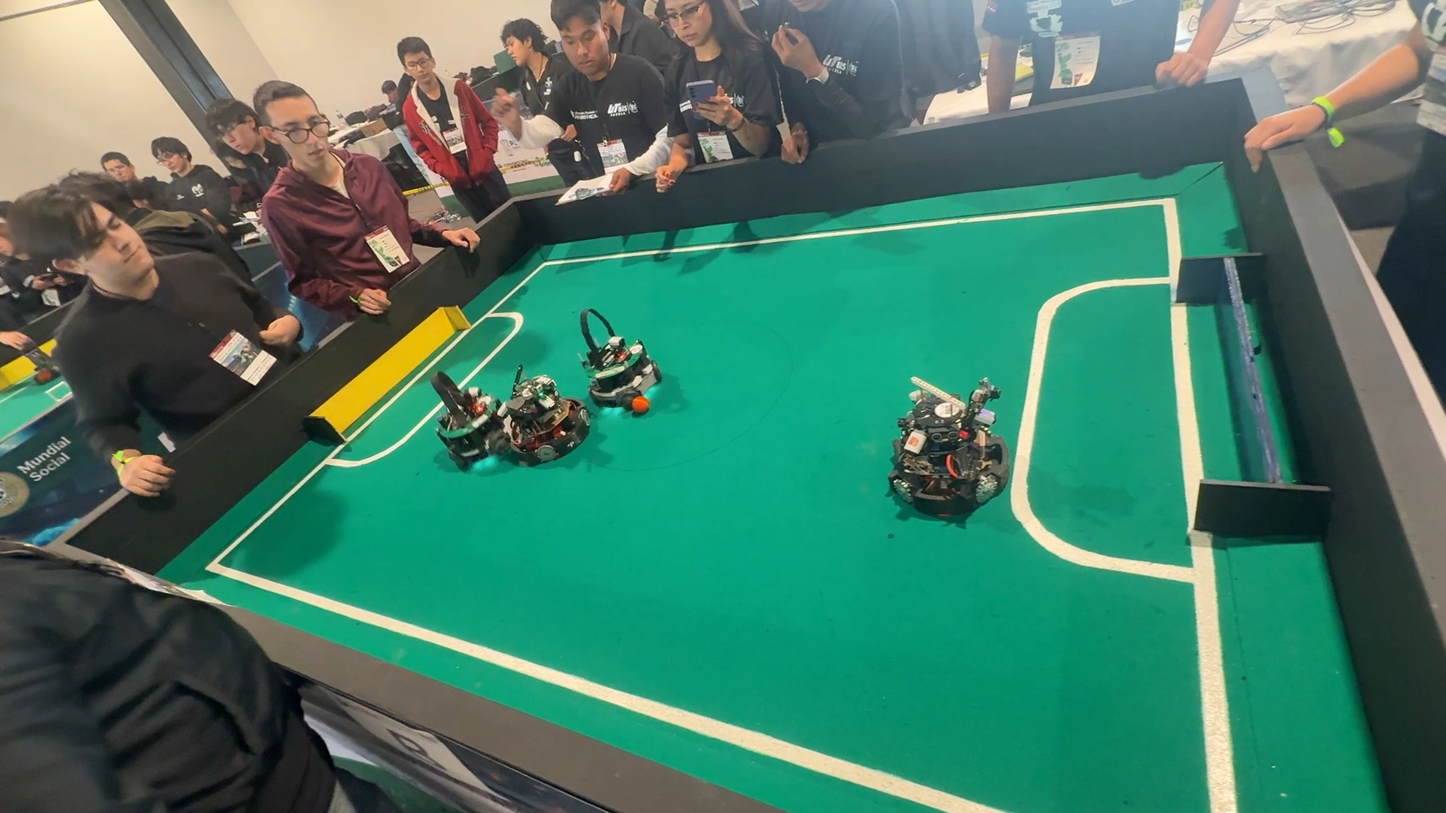Robot: (886, 365, 1024, 535), (563, 304, 685, 424), (397, 362, 488, 480), (495, 369, 583, 481)
pelota: (627, 395, 655, 417)
